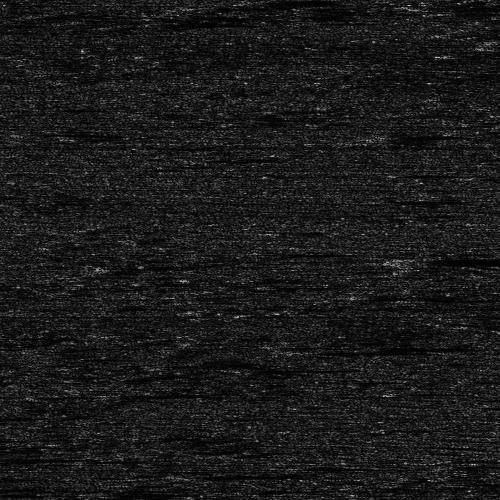object: (369, 253, 462, 264), (151, 472, 192, 479)
shadow: (416, 253, 500, 264), (172, 472, 272, 479)
